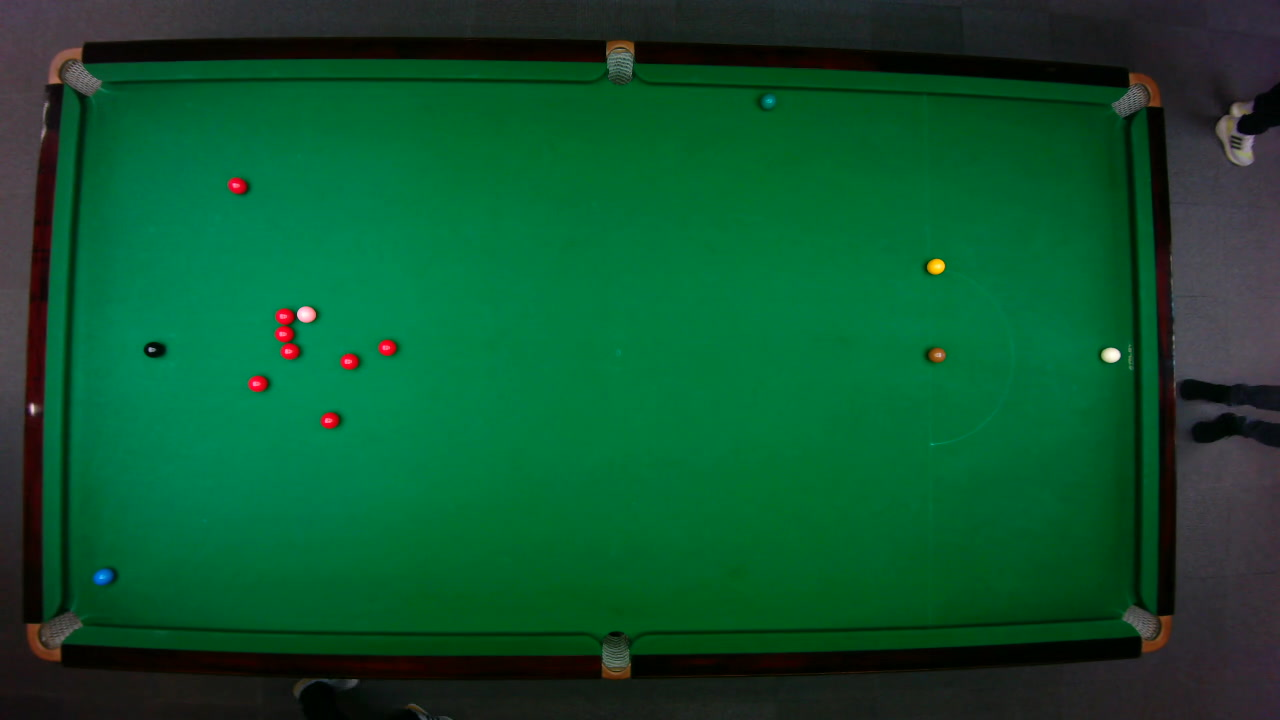bag: (25, 609, 84, 661), (45, 46, 102, 96), (1119, 603, 1171, 652), (1108, 71, 1161, 118), (1215, 115, 1255, 166), (600, 629, 629, 680), (605, 38, 633, 85)
black: (142, 340, 164, 358)
blue: (91, 566, 114, 585)
brown: (926, 346, 946, 362)
green: (759, 92, 776, 110)
pink: (294, 304, 317, 323)
red: (318, 410, 340, 429), (246, 374, 269, 392), (226, 176, 248, 194), (278, 342, 300, 360), (273, 306, 294, 324), (272, 325, 294, 342), (377, 338, 397, 356), (338, 352, 359, 369)
white: (1098, 345, 1121, 363)
yellow: (925, 257, 945, 274)
zone: (927, 265, 1013, 445)
